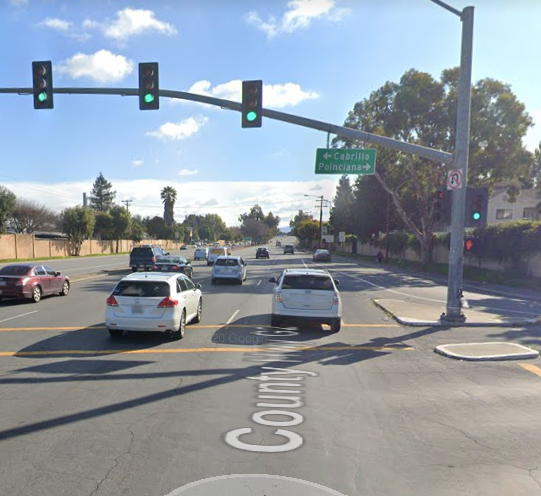green_light: (138, 63, 160, 109), (32, 62, 51, 111), (242, 80, 260, 126), (471, 190, 485, 225)
